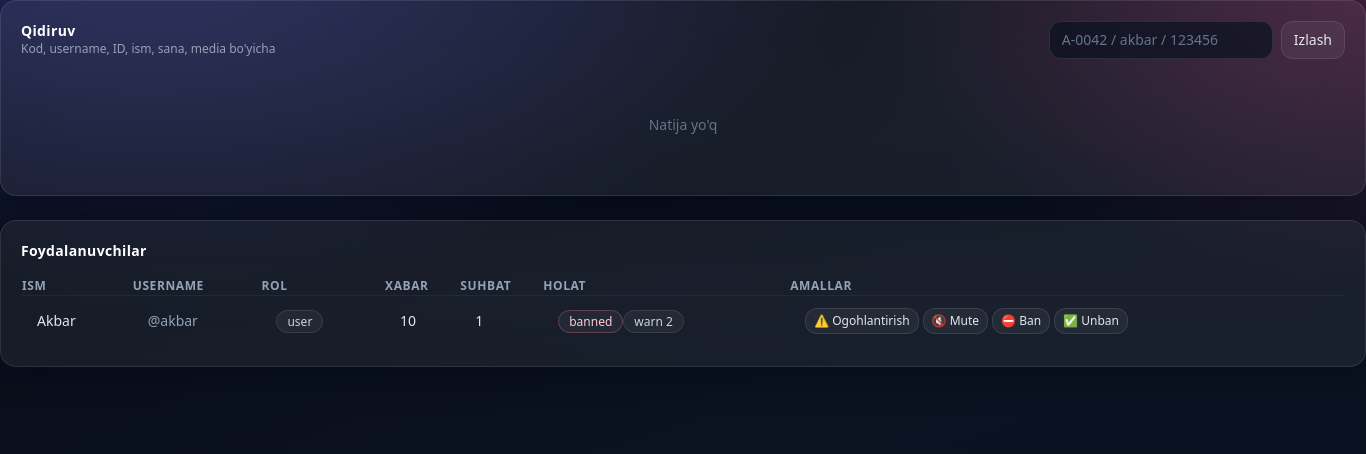
Scenario: UsersView actions › surfaces the error when the action fails
The width and height of the screenshot is (1366, 454).
Click the button titled "⛔ Ban". click: (1021, 321)
box: [992,308,1050,334]
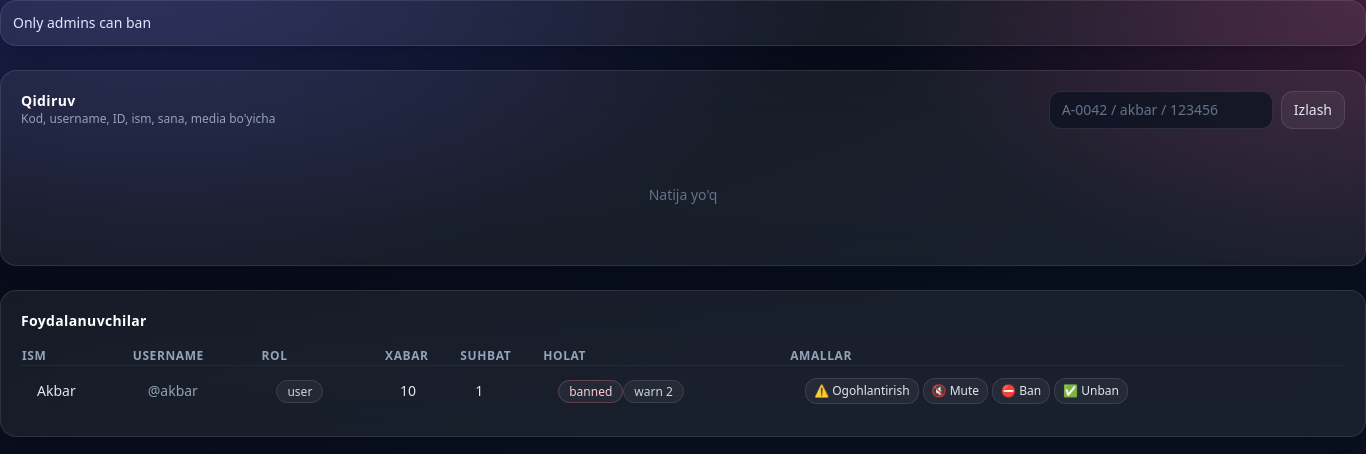
Now the text "Only admins can ban" is shown, box [0,0,1365,46]
